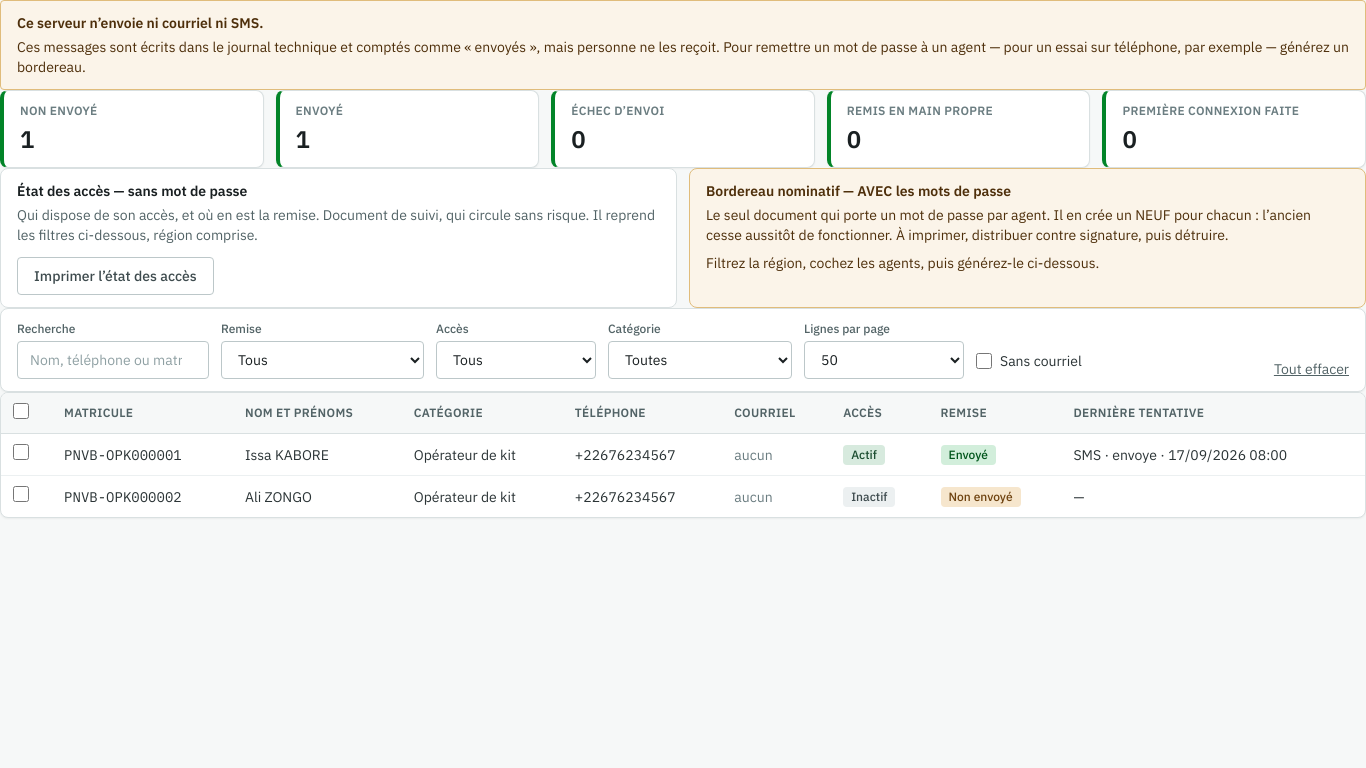
Test: Le bouton du bordereau › s’active dès qu’une sélection commence, et dit ce qui manque s’il reste gris
Click the checkbox named "Cocher toute la page" at (21, 411), box [13,403,29,419]
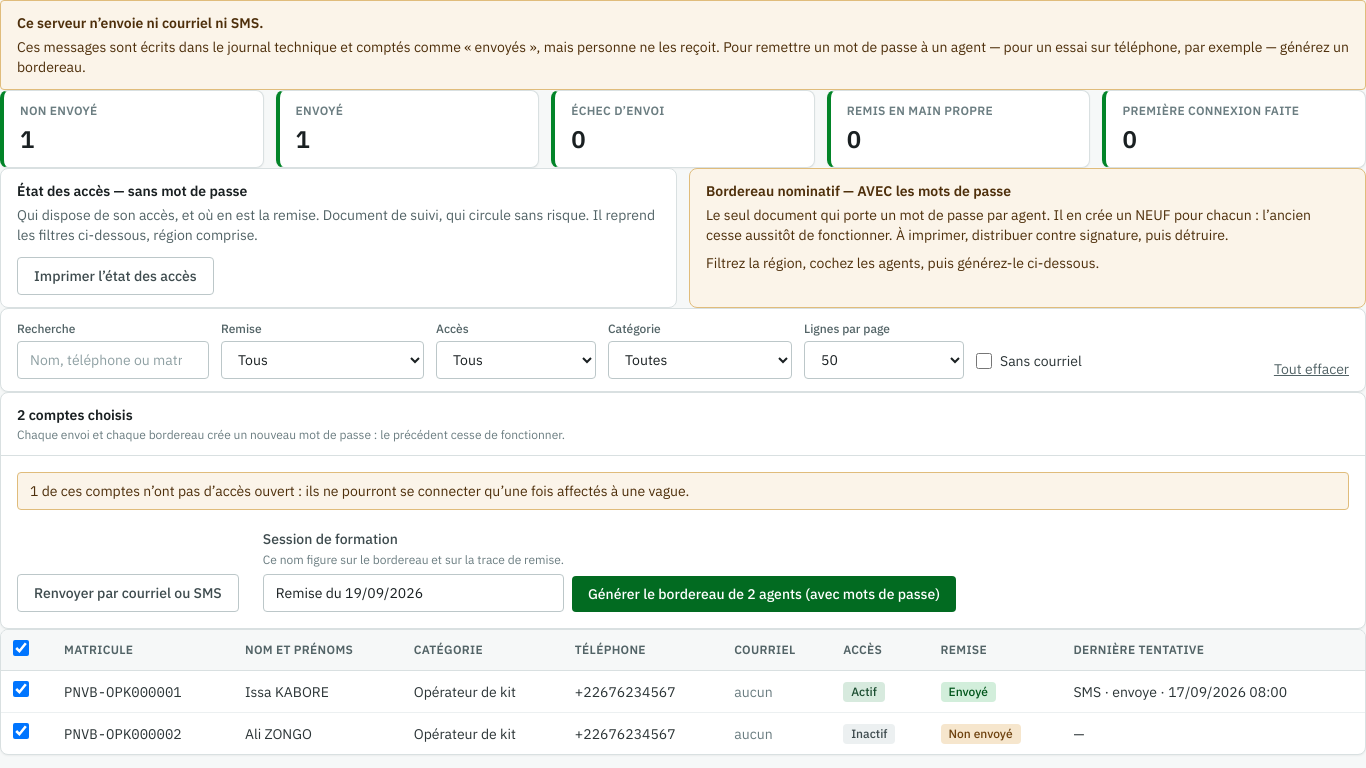
Expected: the field labelled "Session de formation" is not empty
Expected: the button "Générer le bordereau de 2 agents (avec mots de passe)" is enabled, [572,576,956,612]
Note: Vidé à la main, le bouton se grise ET l'écran dit pourquoi.
Clear the field labelled "Session de formation" at (413, 593), box [263,574,564,612]
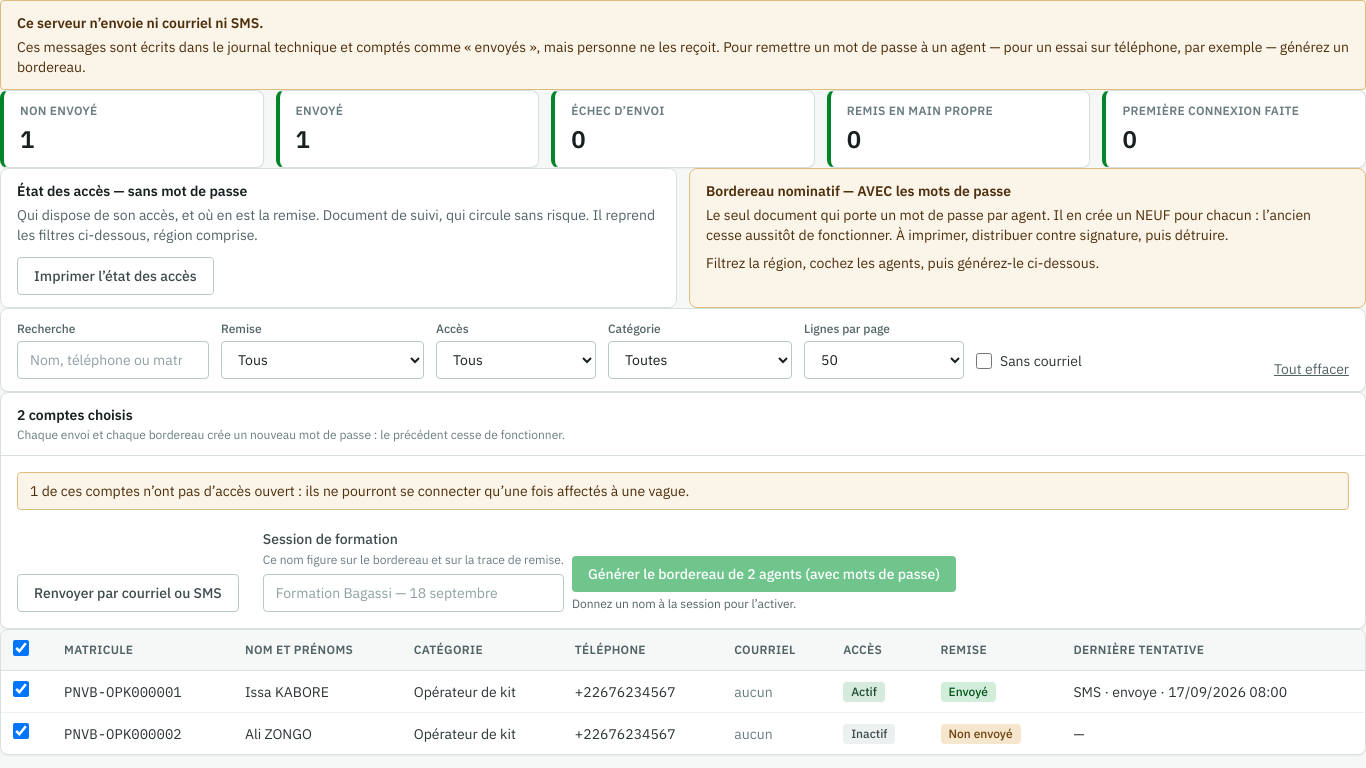
Expected: the button "Générer le bordereau de 2 agents (avec mots de passe)" is disabled, [572,556,956,592]
Expected: the text "Donnez un nom à la session pour l’activer." is shown, [572,596,796,611]
